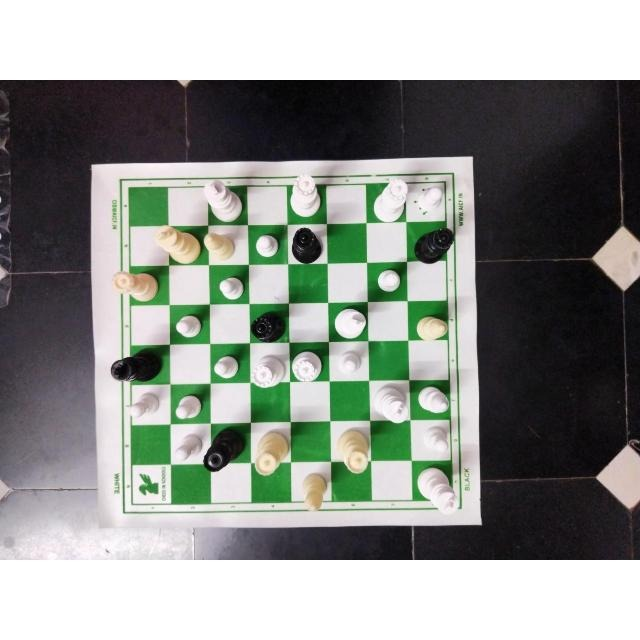black-king: (109, 346, 161, 381)
black-queen: (204, 425, 246, 472), (415, 227, 453, 263), (290, 227, 322, 262), (249, 310, 285, 341)
white-bishop: (300, 472, 327, 512), (417, 384, 451, 415), (414, 314, 448, 341), (204, 232, 236, 260)
white-king: (417, 466, 461, 514), (151, 224, 202, 264), (203, 178, 245, 221), (374, 385, 410, 424), (333, 308, 367, 340)
white-pawn: (128, 392, 160, 420), (420, 426, 449, 455), (214, 274, 245, 300), (172, 314, 203, 340), (336, 348, 364, 376), (174, 433, 202, 461), (376, 268, 403, 294), (214, 352, 240, 379), (173, 395, 202, 419), (255, 232, 281, 257), (417, 186, 443, 209)
white-queen: (109, 269, 161, 303), (334, 429, 370, 475), (374, 179, 410, 223), (253, 433, 289, 477), (291, 174, 323, 218), (250, 354, 285, 389), (291, 349, 323, 383)
